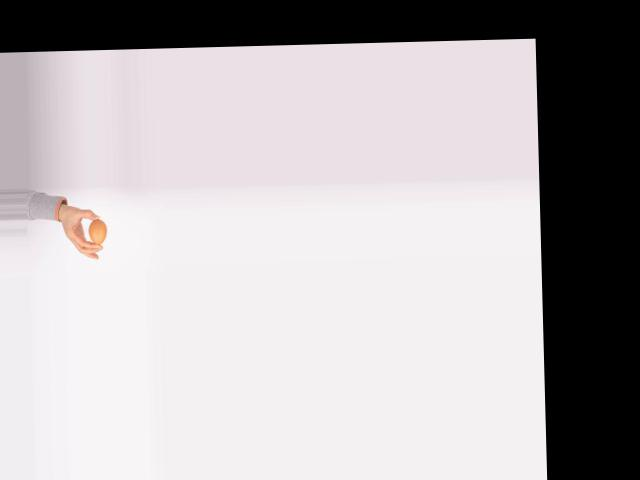egg: (89, 219, 107, 244)
